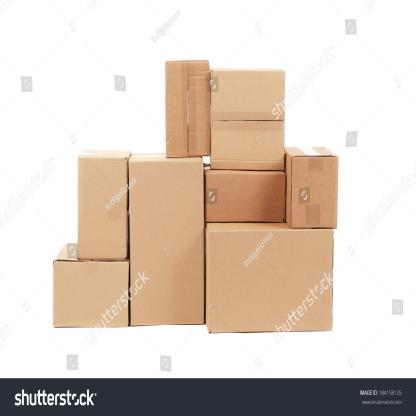box: (208, 230, 333, 332), (129, 158, 204, 326), (213, 70, 285, 170), (52, 261, 129, 327), (78, 158, 127, 260), (166, 61, 211, 159), (206, 173, 286, 222), (291, 156, 338, 228)
